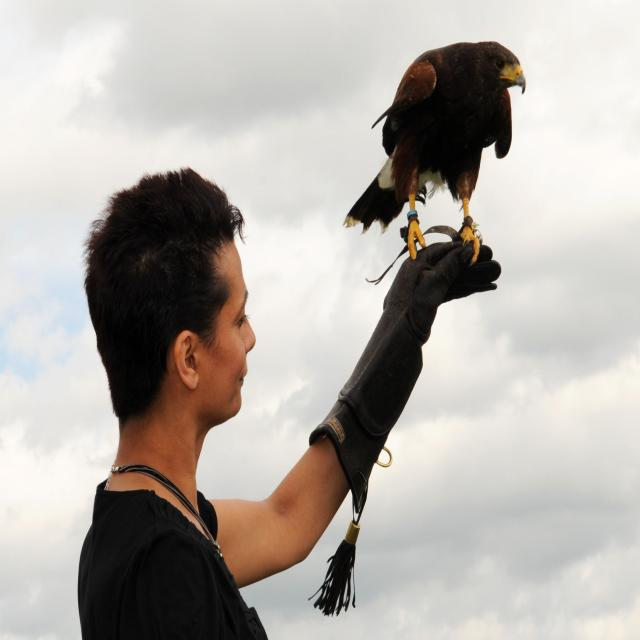bird: (340, 36, 532, 247)
